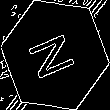N_E: (26, 27, 84, 83)
